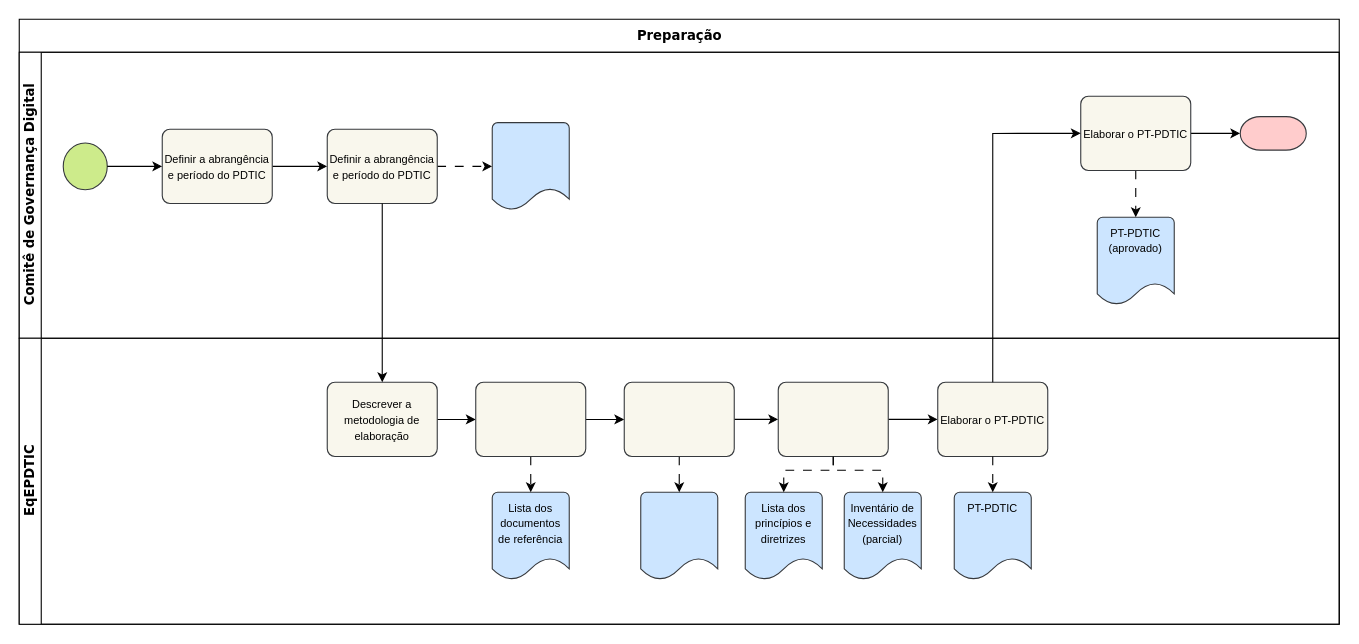
This 1359x644 diagram has some shape labels left out. The box of each missing label's shape, as (x1, y1, x2, y2) in pixels:
Consolidar documentos e referência: (475, 381, 586, 457)
Fim: (1239, 116, 1306, 150)
Identificar estratégias de organização: (623, 381, 734, 457)
Identificar princípios e diretrizes: (777, 381, 888, 457)
Início: (62, 142, 107, 190)
Lista de estratégias da organização: (640, 491, 718, 580)
Portaria de designação da EqEPDTIC: (491, 122, 569, 210)
